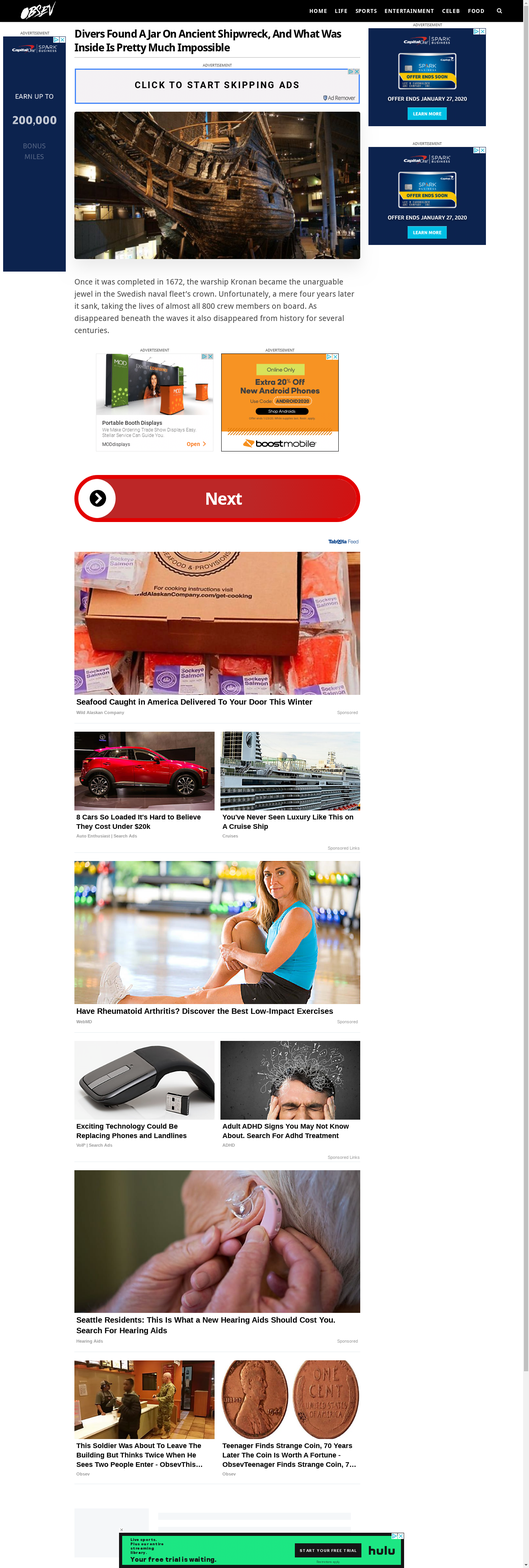fake_button: (62, 469, 369, 532), (398, 102, 456, 130), (288, 1543, 365, 1559), (402, 222, 455, 245)
